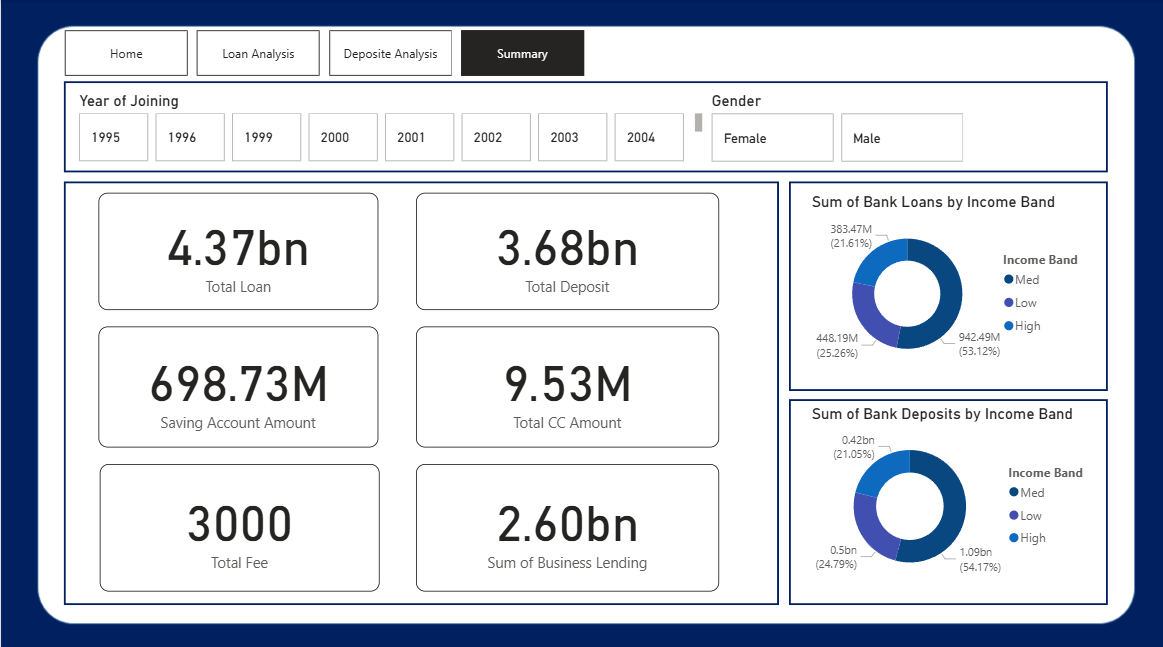

This screenshot's page, from the dashboard's own definition file:
{"tool":"powerbi","page":{"name":"Summary","canvas":[1280,720],"ordinal":3},"visuals":[{"type":"advancedSlicerVisual","fields":{"Values":["Banking (1).Year of Joining"]},"box":[81.4,101.4,694.3,82.9],"z":0},{"type":"advancedSlicerVisual","fields":{"Values":["Banking (1).GenderId"]},"box":[775.7,101.4,430,82.9],"z":1},{"type":"card","fields":{"Values":["Banking (1).Total Loan"]},"box":[107.1,212.9,307.1,128.6],"z":2},{"type":"card","fields":{"Values":["Banking (1).Total Deposit"]},"box":[455.7,212.9,332.9,128.6],"z":3},{"type":"card","fields":{"Values":["Banking (1).Saving Account Amount"]},"box":[107.1,360,307.1,132.9],"z":4},{"type":"card","fields":{"Values":["Banking (1).Total Fee"]},"box":[108.6,510,307.1,140],"z":5},{"type":"card","fields":{"Values":["Banking (1).Total CC Amount"]},"box":[455.7,360,332.9,132.9],"z":6},{"type":"card","fields":{"Values":["Sum(Banking (1).Business Lending)"]},"box":[455.7,510,332.9,140],"z":7},{"type":"donutChart","fields":{"Y":["Sum(Banking (1).Bank Loans)"],"Category":["Banking (1).Income Band"]},"box":[885.7,212.9,320,202.9],"z":8},{"type":"donutChart","fields":{"Y":["Sum(Banking (1).Bank Deposits)"],"Category":["Banking (1).Income Band"]},"box":[885.7,444.3,325.7,205.7],"z":9},{"type":"pageNavigator","box":[70,34.3,570,50],"z":10}]}

Visuals, with their boxes in screenshot pixels (x1, y1, x2, y2), scaled from the page's 1280x720 canvas onto the 1163x647 screenshot:
advancedSlicerVisual - Banking (1).Year of Joining: select_region(74, 91, 705, 166)
advancedSlicerVisual - Banking (1).GenderId: select_region(705, 91, 1095, 166)
card - Banking (1).Total Loan: select_region(97, 191, 376, 307)
card - Banking (1).Total Deposit: select_region(414, 191, 717, 307)
card - Banking (1).Saving Account Amount: select_region(97, 324, 376, 443)
card - Banking (1).Total Fee: select_region(99, 458, 378, 584)
card - Banking (1).Total CC Amount: select_region(414, 324, 717, 443)
card - Sum(Banking (1).Business Lending): select_region(414, 458, 717, 584)
donutChart - Sum(Banking (1).Bank Loans) x Banking (1).Income Band: select_region(805, 191, 1095, 374)
donutChart - Sum(Banking (1).Bank Deposits) x Banking (1).Income Band: select_region(805, 399, 1101, 584)
pageNavigator: select_region(64, 31, 582, 76)
